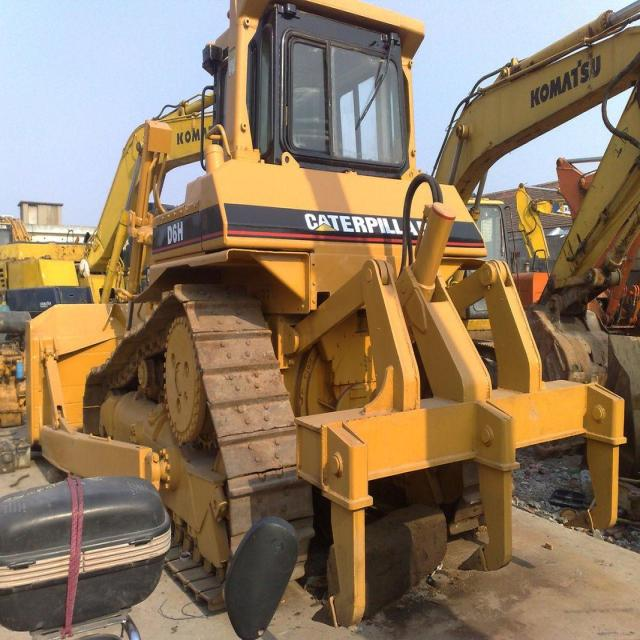bull_dozer/loader/grader: (5, 0, 637, 626)
